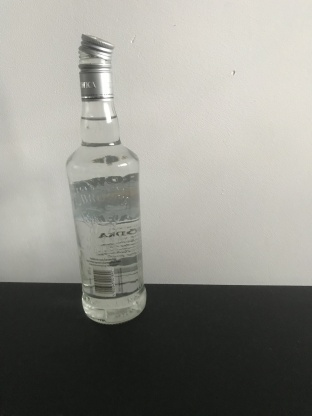nakretka: (76, 31, 116, 102)
